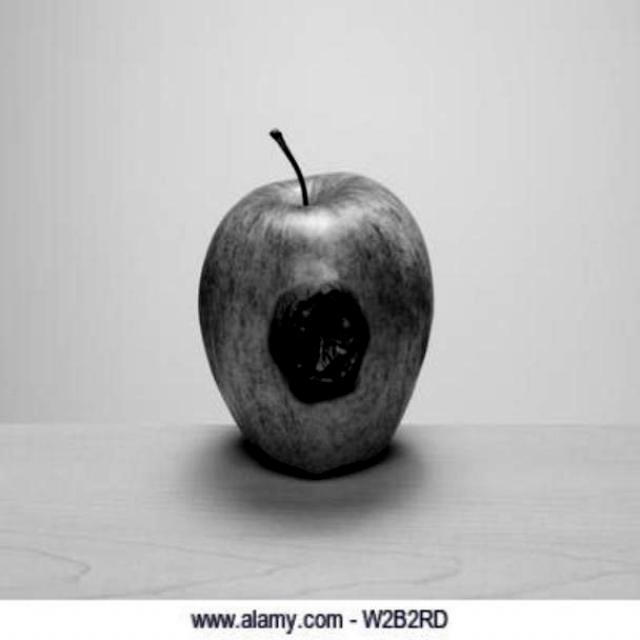ROT: (191, 146, 467, 503)
